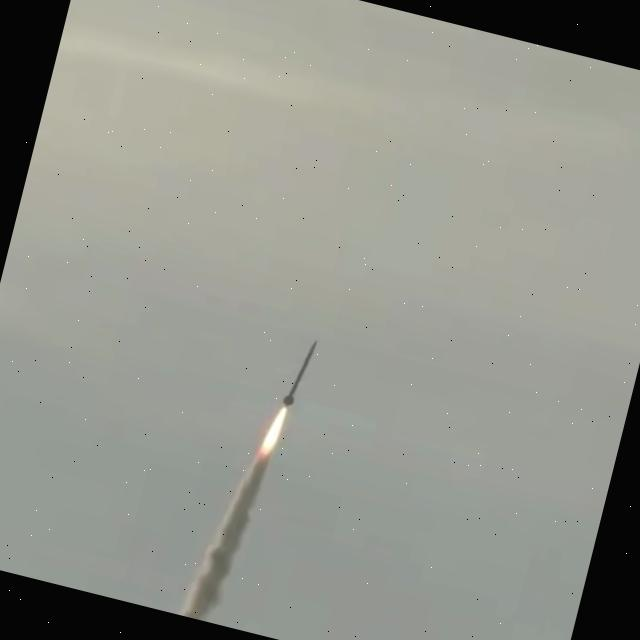rocket: (282, 341, 318, 404)
smoke_trail_with_rocket: (178, 343, 313, 621)
